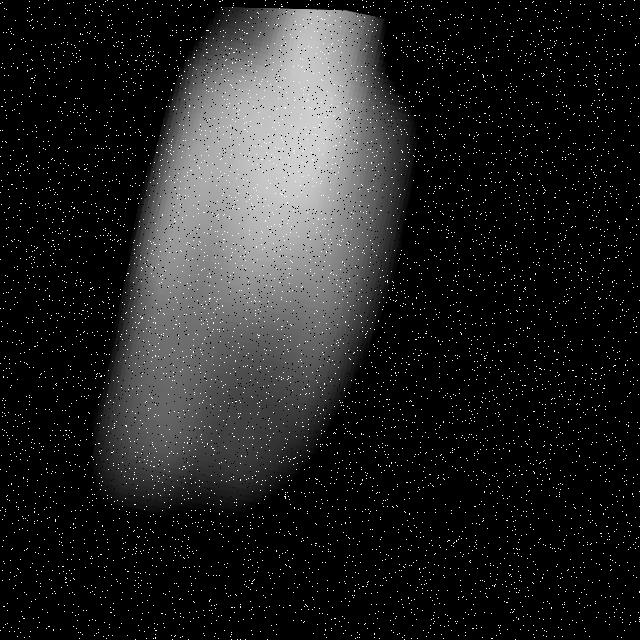person: (86, 4, 450, 571)
